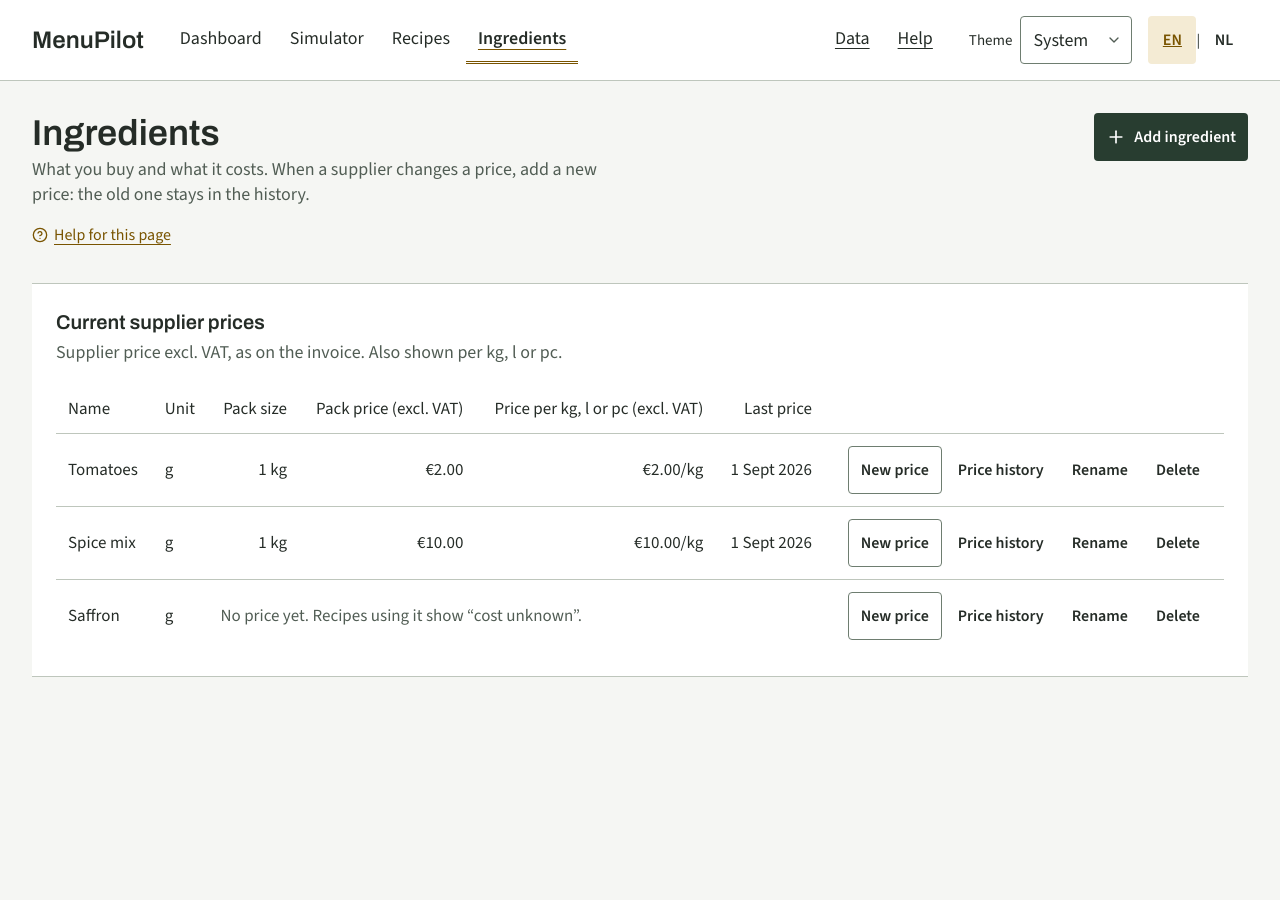
it: Price valid from › New price with a past invoice date is recorded at the start of that UTC day
Expected: the heading "Ingredients" is shown, 32,113 -> 220,153
Click the button with aria-label "New price for Tomatoes".
click(895, 470)  # box 848,446 -> 942,494
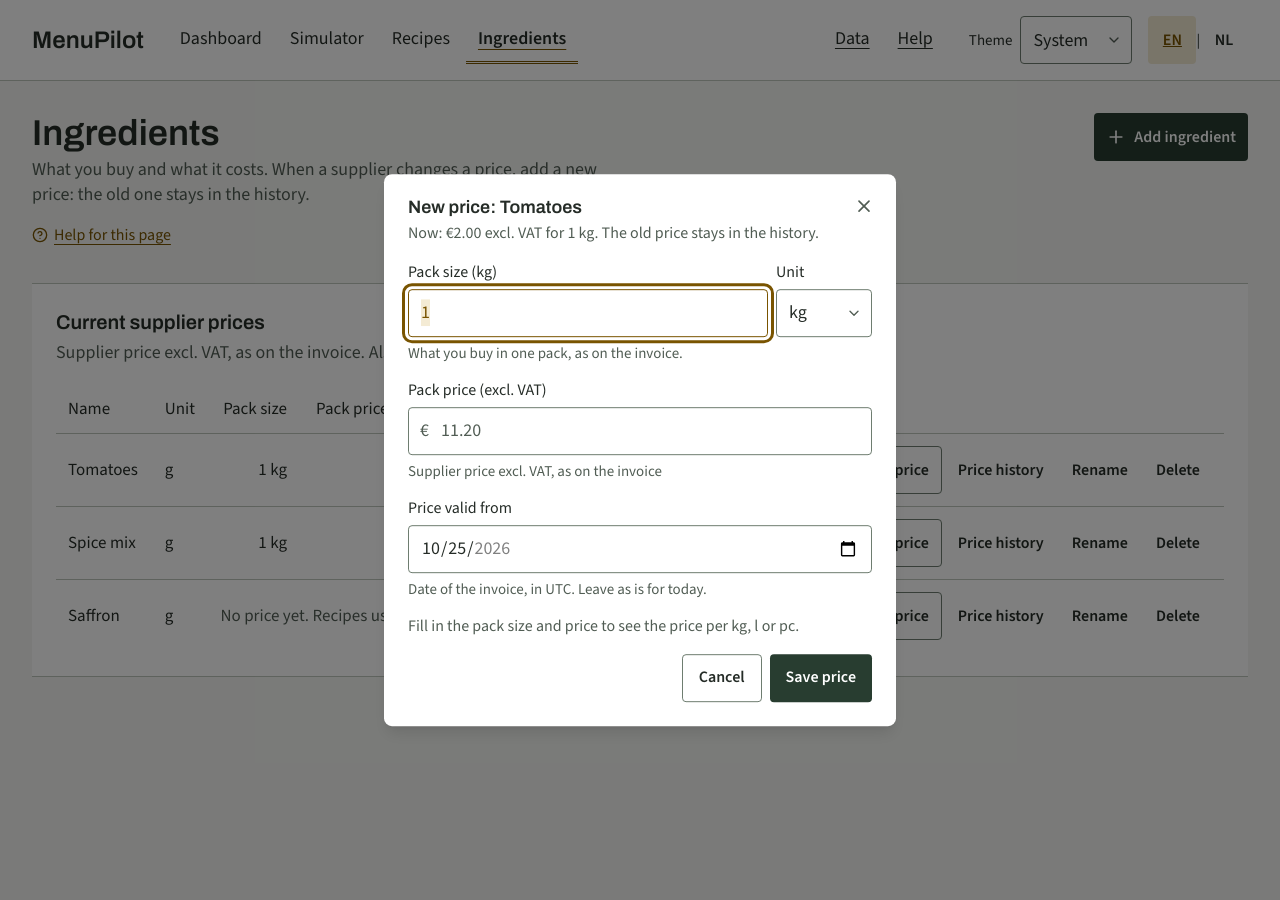
Result: the date field labelled "Price valid from" holds "2026-10-25" at 408,525 -> 872,573
Type "2,50" into the field labelled "Pack price (excl. VAT)".
click(640, 431); type("2,50")  # box 408,407 -> 872,455
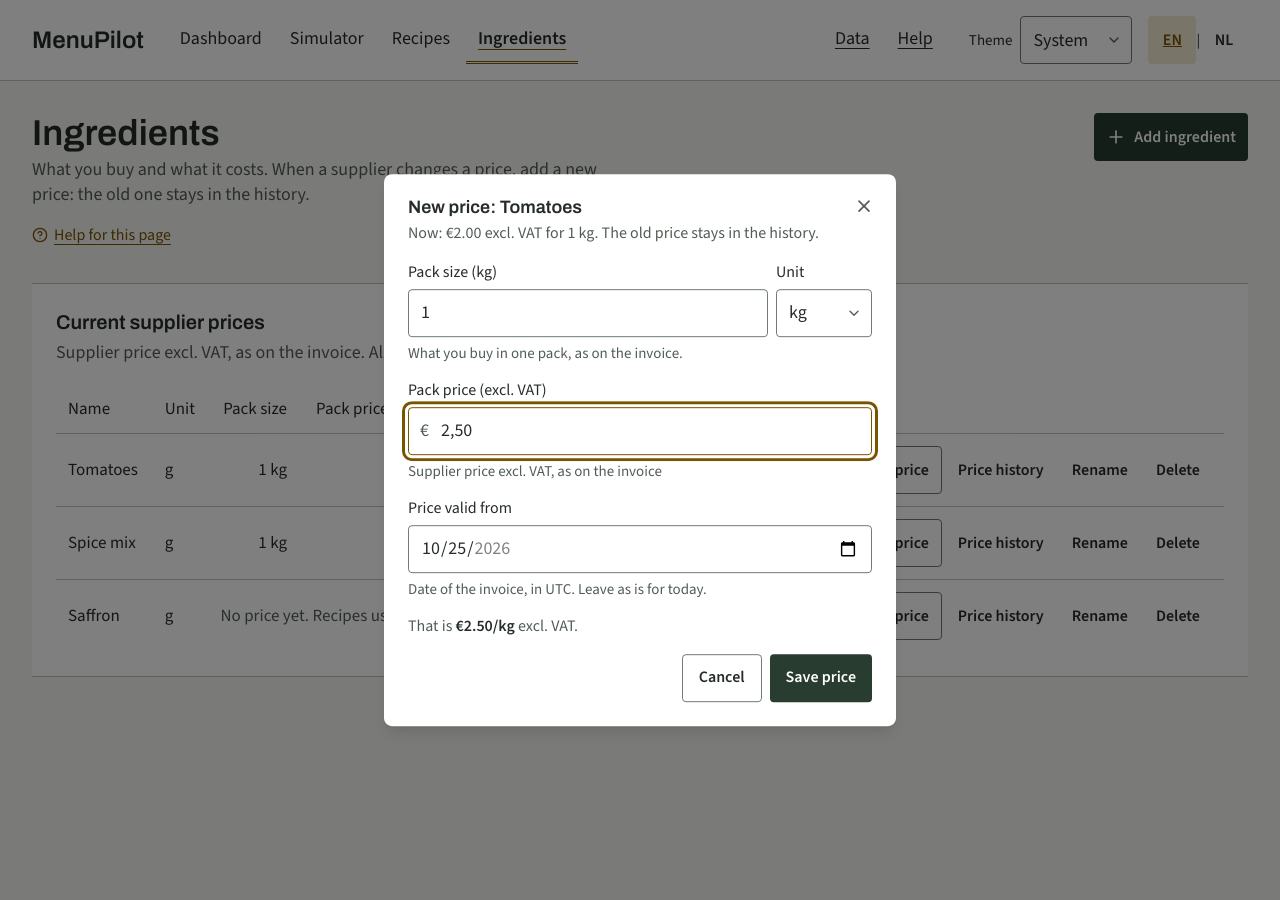
Type "2026-09-15" into the date field labelled "Price valid from".
click(640, 549); type("2026-09-15")  # box 408,525 -> 872,573
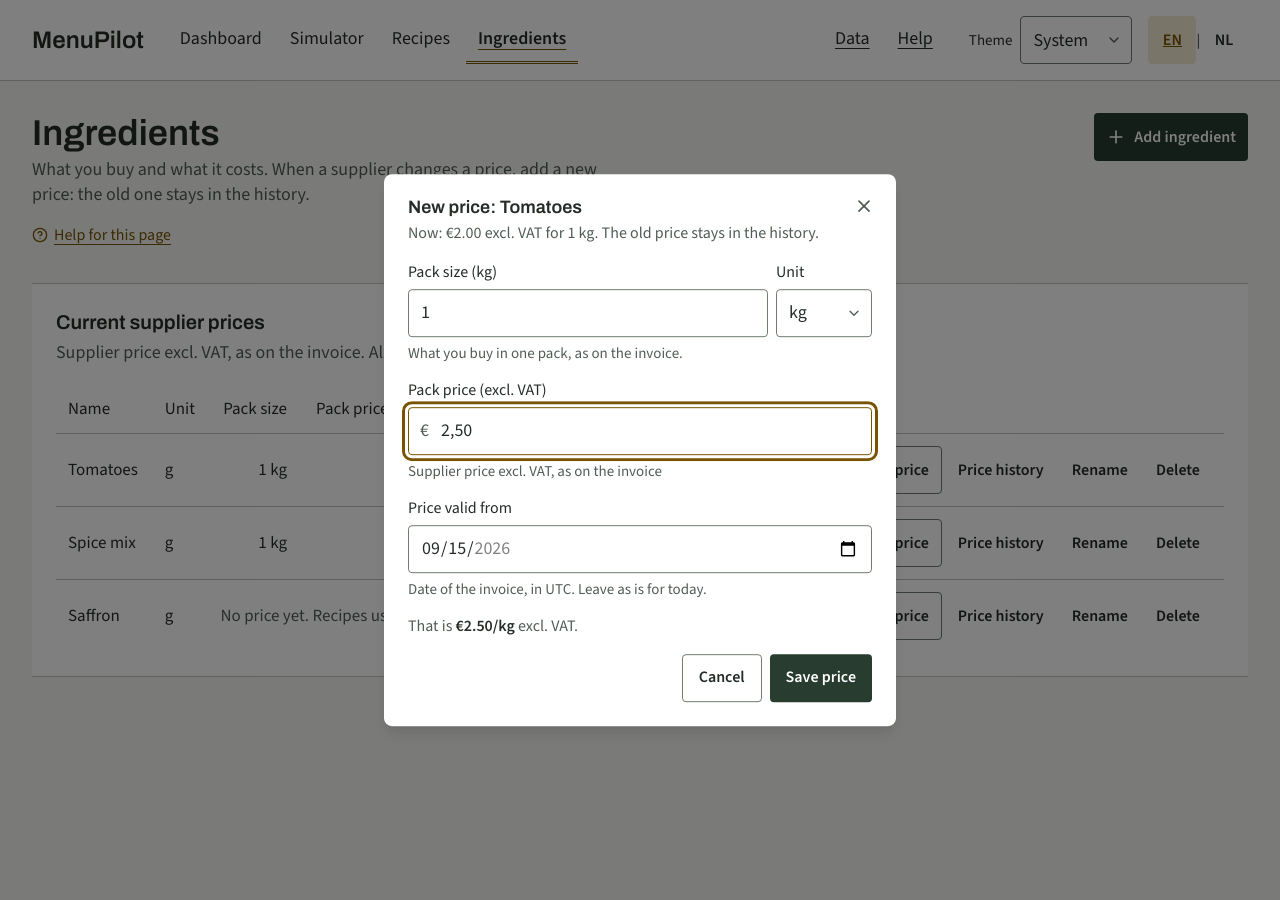
Click the button "Save price".
click(821, 678)  # box 770,654 -> 872,702
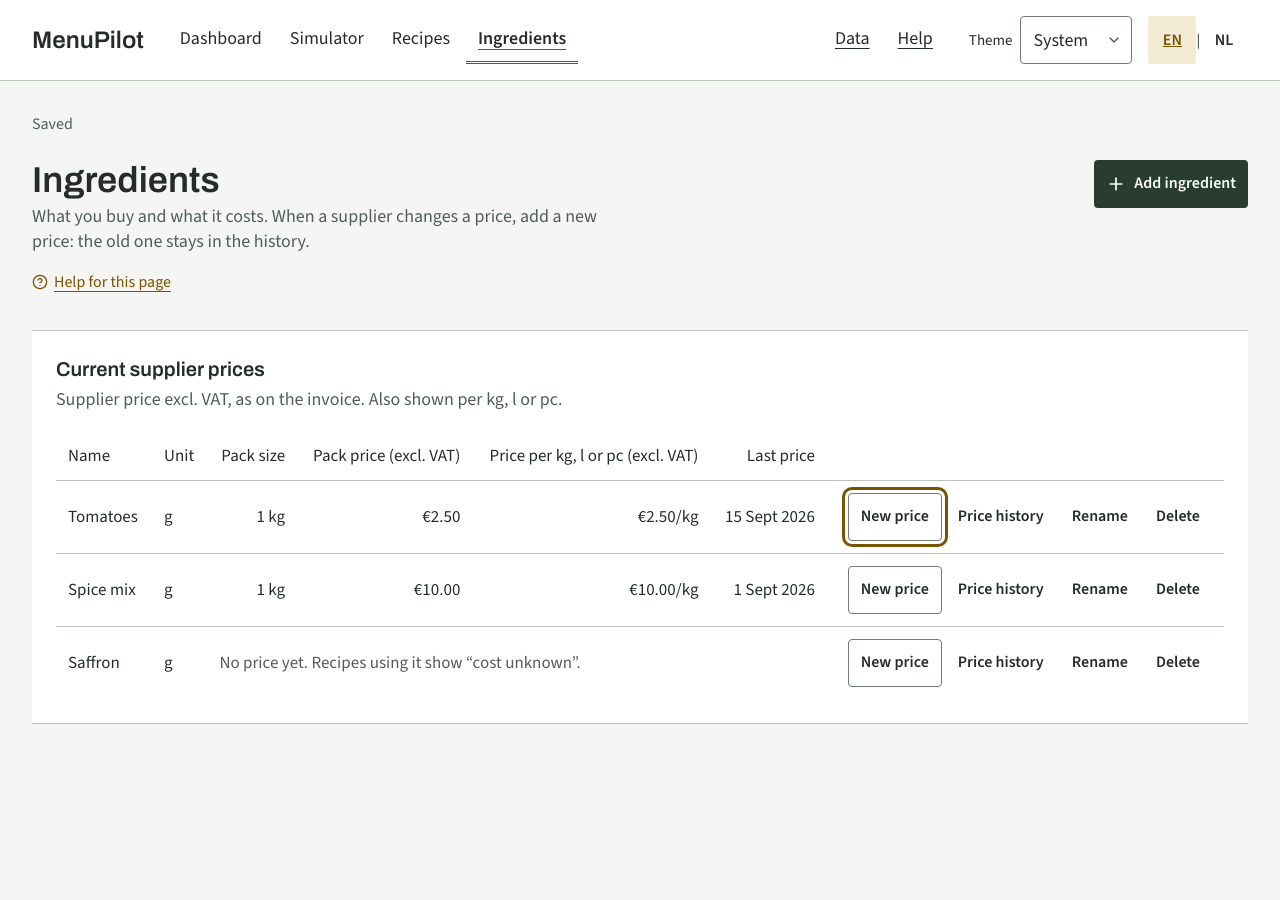
Result: the dialog is gone
